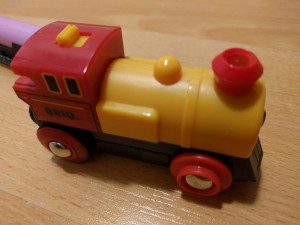brio: (10, 15, 269, 199)
